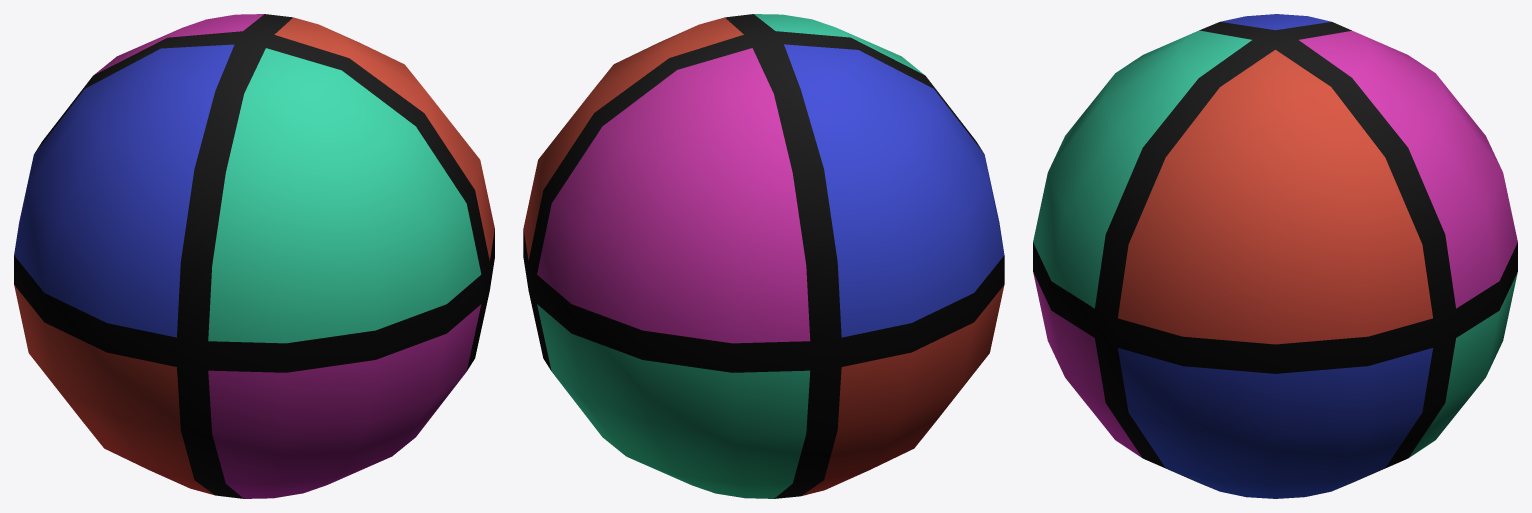
Rendered from ball.fbx.
The picture shows the model from 3 angles, left to right: view 1: azimuth 30°, elevation 25°; view 2: azimuth 150°, elevation 25°; view 3: azimuth 270°, elevation 25°; orthographic projection.
Parts seen in each view (by area): view 1: ball; view 2: ball; view 3: ball.
Boxes of the visible parts, x1,y1,x2,y2 form: ball: (14, 14, 494, 498); ball: (523, 14, 1004, 498); ball: (1033, 14, 1517, 498).
Bounding box in the file's own units: 1.99 × 1.96 × 1.99.
